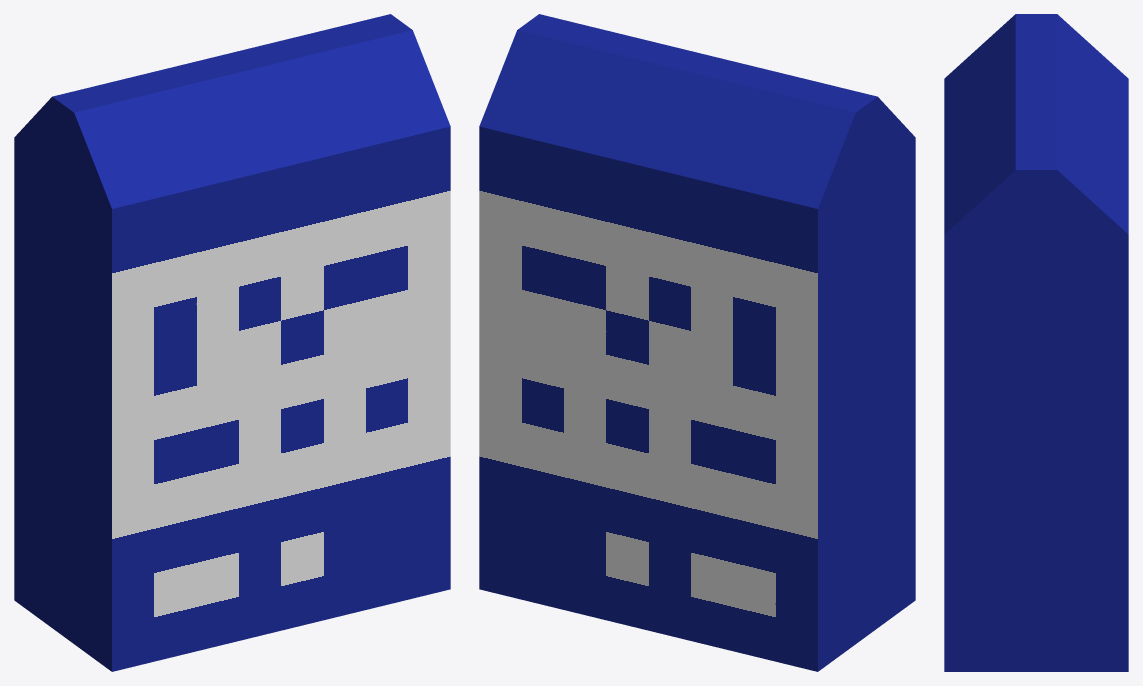
The model's file is Milk.glb.
The picture shows the model from 3 angles, left to right: view 1: azimuth 30°, elevation 25°; view 2: azimuth 150°, elevation 25°; view 3: azimuth 270°, elevation 25°; orthographic projection. The views are drawn at different scales.
Visible parts, largest first — view 1: Cube; view 2: Cube; view 3: Cube.
Boxes of the visible parts, x1,y1,x2,y2 form: Cube: (14, 14, 450, 671); Cube: (479, 14, 915, 671); Cube: (944, 14, 1128, 671).
Size of the model in its own units: 2 by 3 by 1.
1 material, 1 textured.
